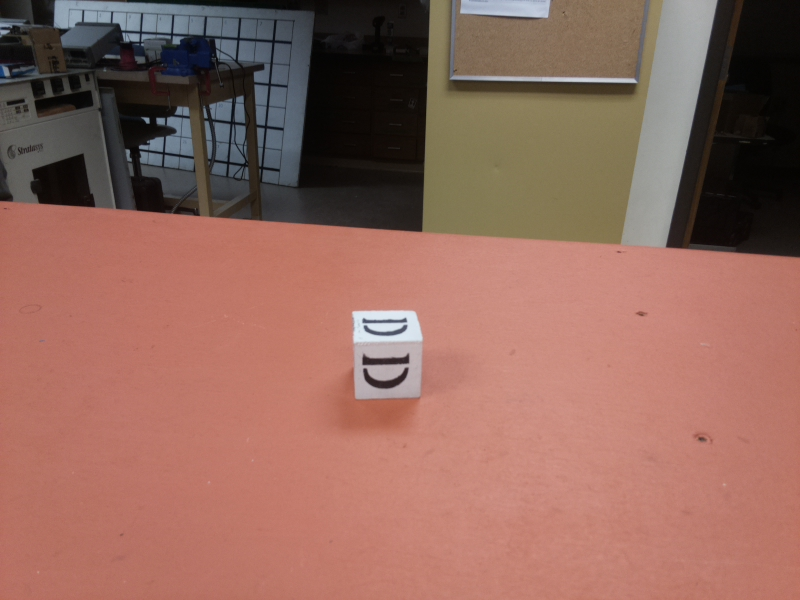blockD: (348, 308, 424, 400)
